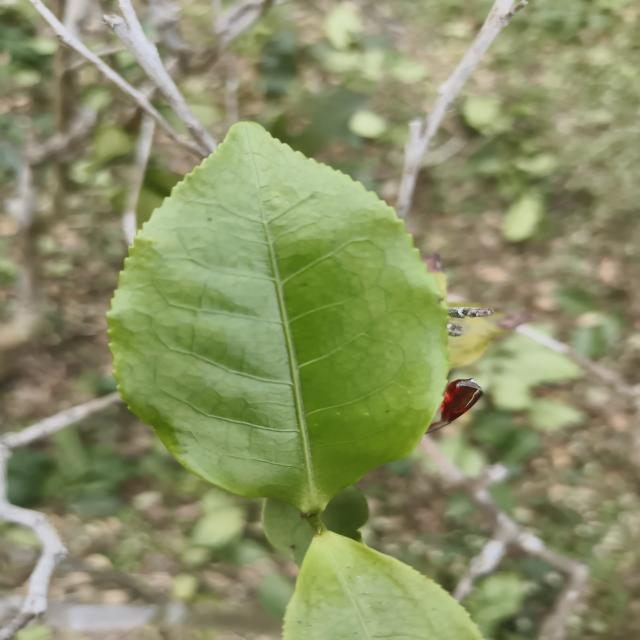Leaf: (107, 123, 449, 513), (283, 530, 481, 640)
